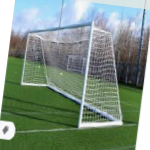goals: (20, 18, 125, 129)
